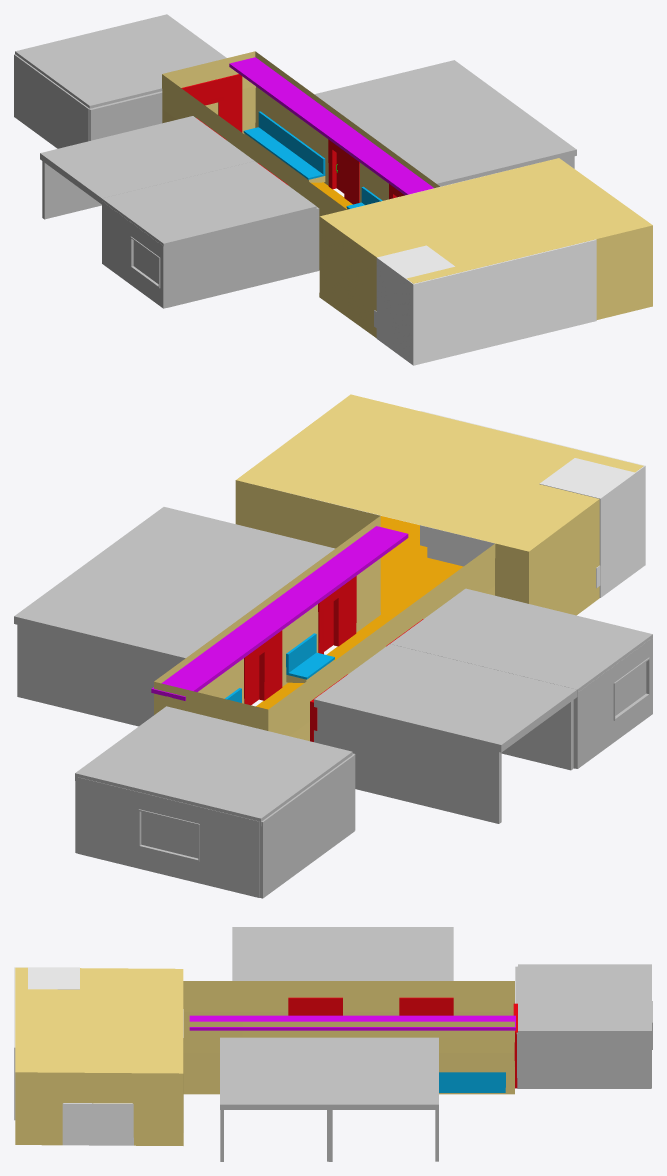
File: hospital.fbx
The picture shows the model from 3 angles, top to bottom: view 1: azimuth 30°, elevation 25°; view 2: azimuth 150°, elevation 25°; view 3: azimuth 270°, elevation 25°; orthographic projection. The views are drawn at different scales.
Parts seen in each view (by area): view 1: Hallway, BehindReception, Ceiling.004, Ceiling, Ceiling.003, Ceiling.001, LeftWall, Ceiling.002, LightBlock_Hallway, LeftWall.004, BackWall, Seats_Hallway.001 (+5 smaller); view 2: Hallway, Ceiling.004, Ceiling.003, Ceiling, Ceiling.002, Ceiling.001, RightWall.003, BackWall.001, LeftWall.002, LightBlock_Hallway, LeftWall.004, BehindReception (+8 smaller); view 3: Hallway, Ceiling.004, Ceiling.002, Ceiling.001, RightWall.004, Ceiling.003, Ceiling, LightBlock_Hallway, EntranceDoor_Glass, BehindReception, Seats_Hallway.001, DoorFrame.003 (+2 smaller).
Boxes of the visible parts, <box> form: Hallway: <box>162,51,652,337</box>; BehindReception: <box>376,239,596,365</box>; Ceiling.004: <box>15,14,226,108</box>; Ceiling: <box>102,161,316,249</box>; Ceiling.003: <box>40,116,254,204</box>; Ceiling.001: <box>376,105,576,186</box>; LeftWall: <box>166,209,316,307</box>; Ceiling.002: <box>314,60,515,139</box>; LightBlock_Hallway: <box>229,57,433,195</box>; LeftWall.004: <box>14,54,91,148</box>; BackWall: <box>102,201,166,308</box>; Seats_Hallway.001: <box>243,111,325,182</box>; Hallway: <box>154,394,643,741</box>; Ceiling.004: <box>75,706,352,825</box>; Ceiling.003: <box>314,644,576,752</box>; Ceiling: <box>390,588,652,696</box>; Ceiling.002: <box>14,561,260,663</box>; Ceiling.001: <box>90,507,335,602</box>; RightWall.003: <box>314,708,501,823</box>; BackWall.001: <box>77,777,259,897</box>; LeftWall.002: <box>17,625,177,726</box>; LightBlock_Hallway: <box>151,526,408,700</box>; LeftWall.004: <box>259,755,354,898</box>; BehindReception: <box>421,411,645,597</box>; Hallway: <box>15,967,514,1145</box>; Ceiling.004: <box>518,964,651,1036</box>; Ceiling.002: <box>328,1037,438,1109</box>; Ceiling.001: <box>220,1037,328,1109</box>; RightWall.004: <box>516,1032,651,1088</box>; Ceiling.003: <box>343,927,453,980</box>; Ceiling: <box>232,927,342,980</box>; LightBlock_Hallway: <box>189,1015,515,1030</box>; EntranceDoor_Glass: <box>65,1106,131,1144</box>; BehindReception: <box>14,967,79,1120</box>; Seats_Hallway.001: <box>439,1072,505,1092</box>; DoorFrame.003: <box>399,997,453,1015</box>.
Size of the model in its own units: 2320 by 468 by 3521.
